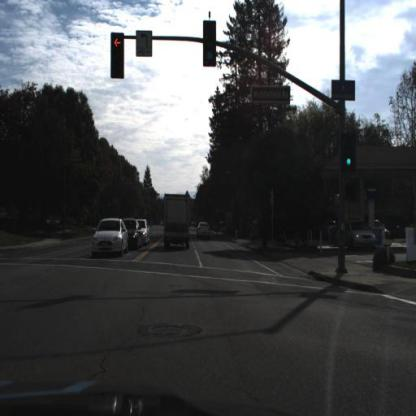car: (90, 217, 128, 257), (341, 218, 378, 251), (127, 218, 143, 249), (193, 218, 213, 240), (140, 215, 151, 247)
trafficLight-Green: (204, 20, 216, 65), (341, 134, 355, 171)
trafficLight-RedLeft: (110, 33, 124, 78)
truck: (161, 192, 192, 252)
